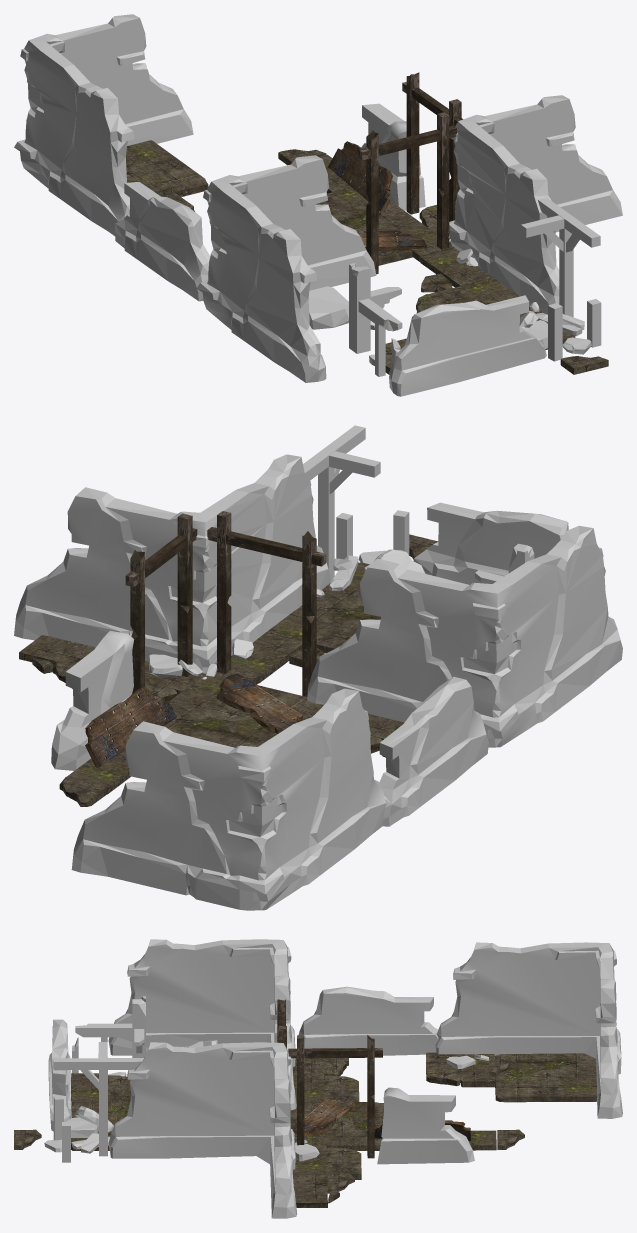
The model's file is zshh_poqiang_2.FBX.
3 views of the same model, one above another, from view 1: azimuth 30°, elevation 25°; view 2: azimuth 150°, elevation 25°; view 3: azimuth 270°, elevation 25° (orthographic). The views are drawn at different scales.
Parts seen in each view (by area): view 1: zshh_poqiang_04, zshh_poqiang_03; view 2: zshh_poqiang_04, zshh_poqiang_03; view 3: zshh_poqiang_04, zshh_poqiang_03.
Part boxes in pixels (<box>): zshh_poqiang_04: <box>14,14,622,396</box>; zshh_poqiang_03: <box>126,72,608,374</box>; zshh_poqiang_04: <box>14,425,622,910</box>; zshh_poqiang_03: <box>19,511,438,806</box>; zshh_poqiang_04: <box>44,939,622,1218</box>; zshh_poqiang_03: <box>14,999,597,1207</box>.
Bounding box in the file's own units: 1087 × 1616 × 359.
